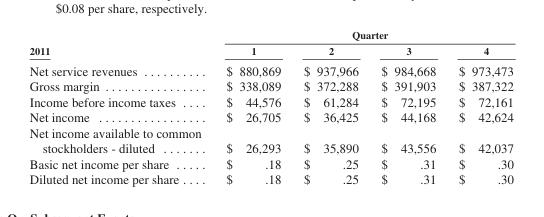table: (28, 28, 513, 185)
table column: (28, 28, 213, 185), (213, 28, 291, 185), (291, 28, 369, 185), (369, 28, 446, 185), (446, 28, 513, 185)
table column header: (28, 28, 513, 59)
table row: (28, 124, 513, 155), (28, 59, 513, 77), (28, 42, 513, 59), (28, 77, 513, 93), (28, 108, 513, 124), (28, 93, 513, 108), (28, 155, 513, 170), (28, 170, 513, 185), (28, 28, 513, 42)
table spanning cell: (28, 28, 213, 59), (213, 28, 513, 42)
